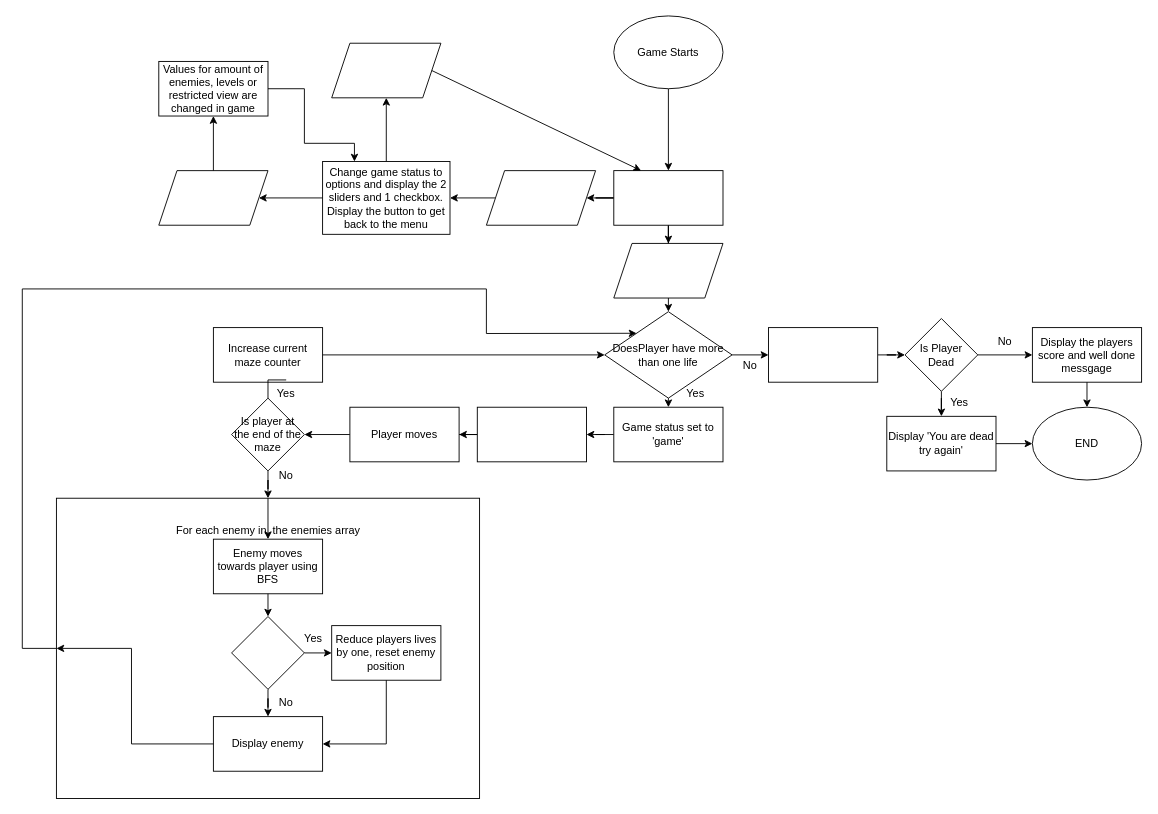
This 1158x814 diagram has some shape labels left out. The centre of each missing label's shape, as x and y in pixels:
"Display the menu" goes at point (668, 197).
"Game Status set to 'endScreen'" goes at point (823, 354).
"Is enemy touching player" goes at point (267, 652).
"Maze, score, lives player and enemies are displayed" goes at point (531, 434).
"Menu is pressed" goes at point (386, 70).
"Options is pressed" goes at point (540, 197).
"Play is pressed" goes at point (668, 270).
"Sider values are changed" goes at point (213, 197).
